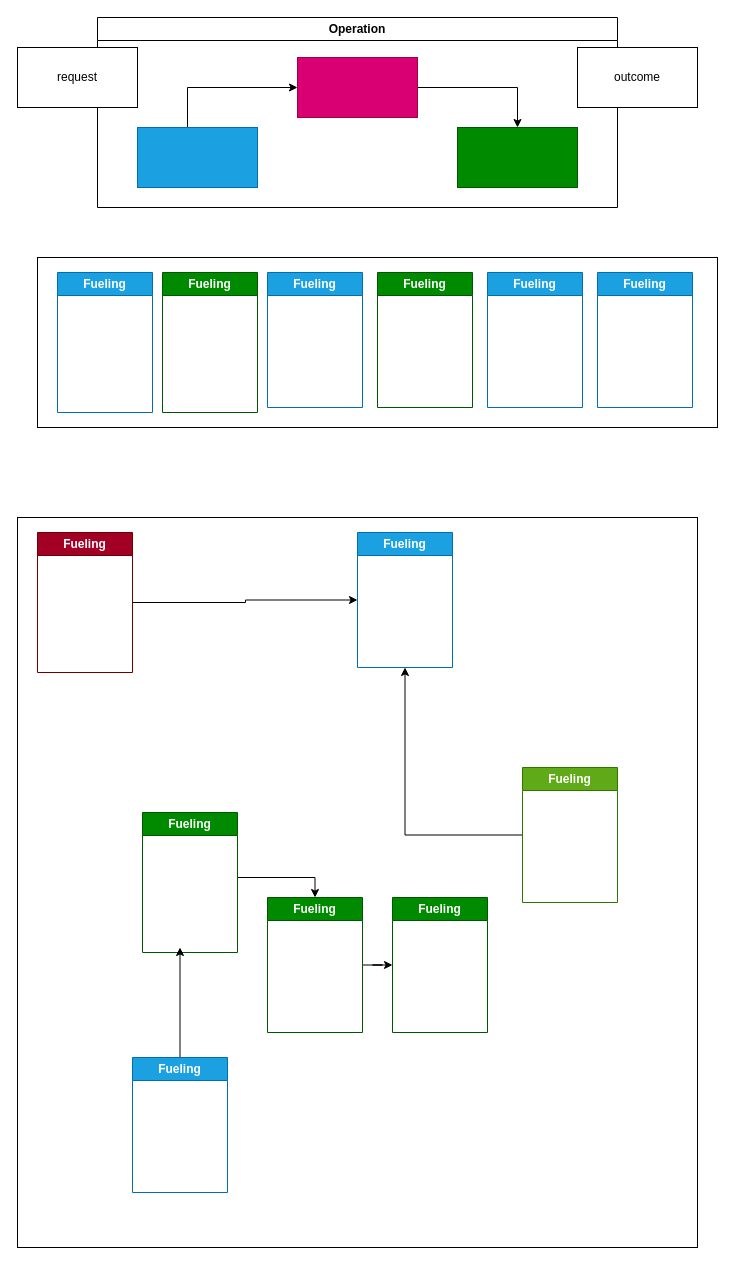
Image size: 735x1265. Some labels were removed from this diagram. The shapes that lost their labels are listed below. From the top down, each one's box as (x1, y1, x2, y2) in pixels, then its label:
(296, 56, 418, 118): trigger
(136, 126, 258, 188): [requested]
(456, 126, 578, 188): [done]
